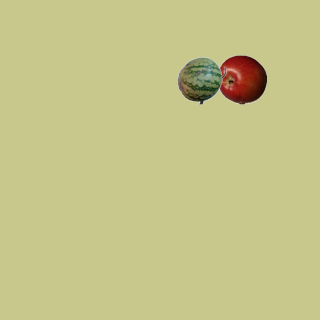Apple Braeburn: (216, 54, 266, 104)
Watermelon: (176, 55, 226, 105)
